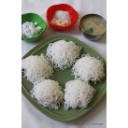idiyappam: (43, 38, 82, 68), (64, 78, 94, 108), (75, 54, 103, 85), (33, 80, 62, 107), (25, 55, 53, 80)
